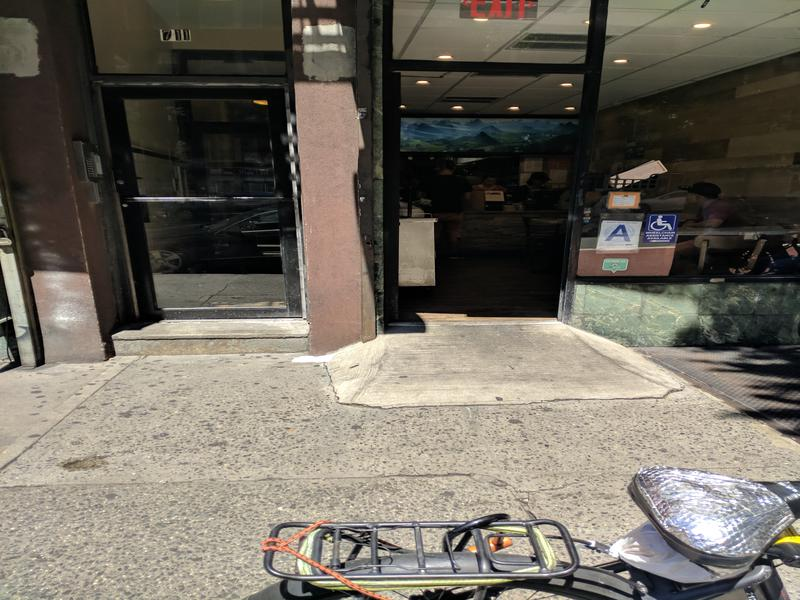door: (94, 72, 316, 335)
